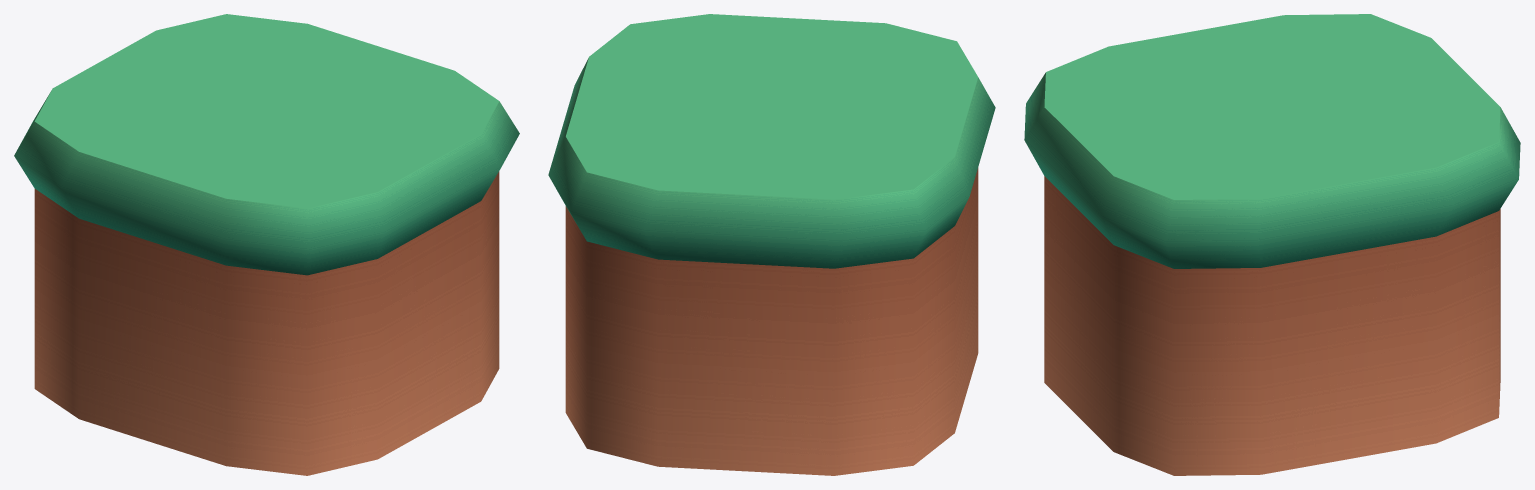
Rendered from block-grass.008_lev2.glb.
3 views of the same model, side by side, from view 1: azimuth 30°, elevation 25°; view 2: azimuth 150°, elevation 25°; view 3: azimuth 270°, elevation 25° (orthographic). The views are drawn at different scales.
Parts seen in each view (by area): view 1: block-grass.008_lev2; view 2: block-grass.008_lev2; view 3: block-grass.008_lev2.
Part boxes in pixels (left/top/right/bottom): block-grass.008_lev2: left=14, top=14, right=519, bottom=475; block-grass.008_lev2: left=548, top=14, right=995, bottom=475; block-grass.008_lev2: left=1024, top=14, right=1520, bottom=475.
Bounding box in the file's own units: 6.87 × 4.37 × 7.11.
1 material, 1 textured.
